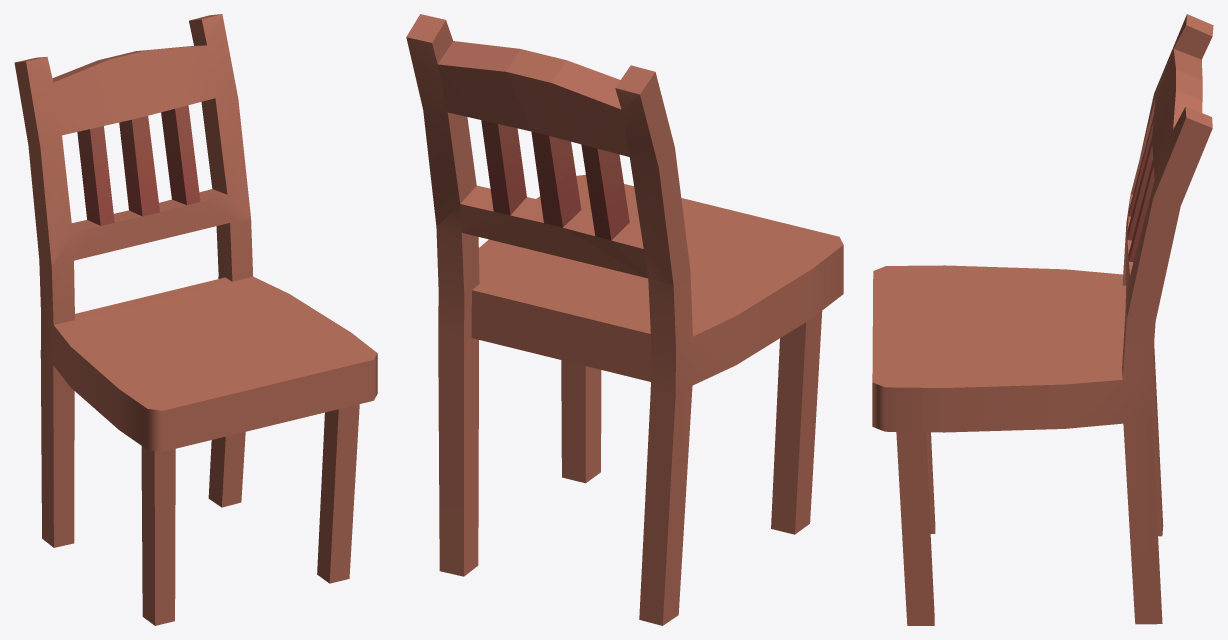
Rendered from SM_Chair_Kitchen_1_03.fbx.
3 renders of one model, left to right at view 1: azimuth 30°, elevation 25°; view 2: azimuth 150°, elevation 25°; view 3: azimuth 270°, elevation 25°, orthographic. The views are drawn at different scales.
Visible parts, largest first — view 1: SM_Chair_Kitchen_1_03; view 2: SM_Chair_Kitchen_1_03; view 3: SM_Chair_Kitchen_1_03.
Part boxes in pixels (x1,y1,x2,y2): SM_Chair_Kitchen_1_03: (14,14,377,625); SM_Chair_Kitchen_1_03: (406,14,843,625); SM_Chair_Kitchen_1_03: (872,14,1213,625).
Bounding box in the file's own units: 64.11 × 124 × 75.37.
